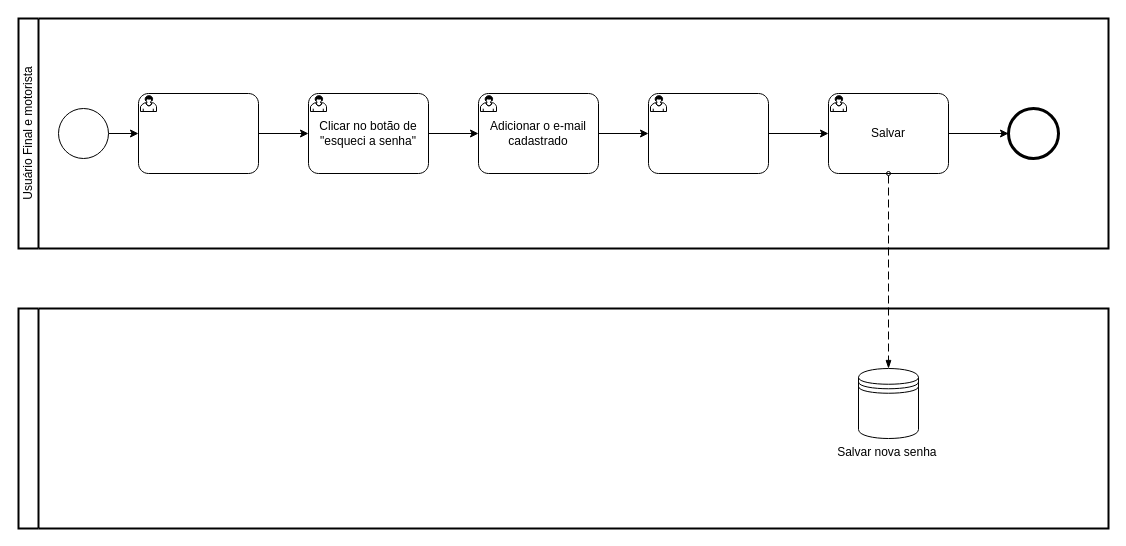
The diagram is 1126 pixels wide and 546 high, and some of its shapes have lost their labels. The box of each missing label's shape, as (x1, y1, x2, y2) in pixels:
Abrir tela de edição da senha: (648, 92, 768, 174)
Acessar tela de login: (138, 92, 258, 174)
Aplicação: (17, 307, 1109, 529)
